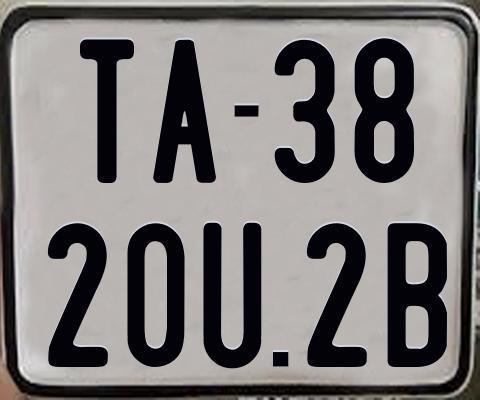0: (126, 221, 186, 369)
2: (47, 220, 112, 368), (305, 223, 365, 371)
3: (273, 37, 336, 182)
8: (351, 38, 415, 183)
A: (151, 40, 215, 184)
B: (386, 221, 446, 369)
T: (80, 36, 136, 181)
U: (202, 222, 261, 370)
